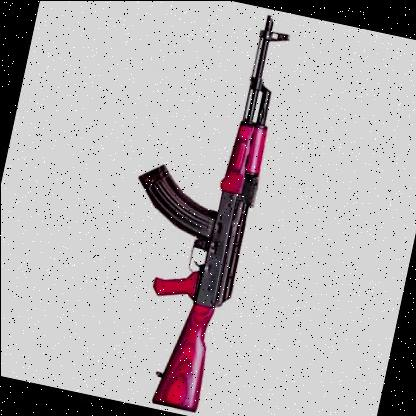rifle: (94, 0, 323, 416)
